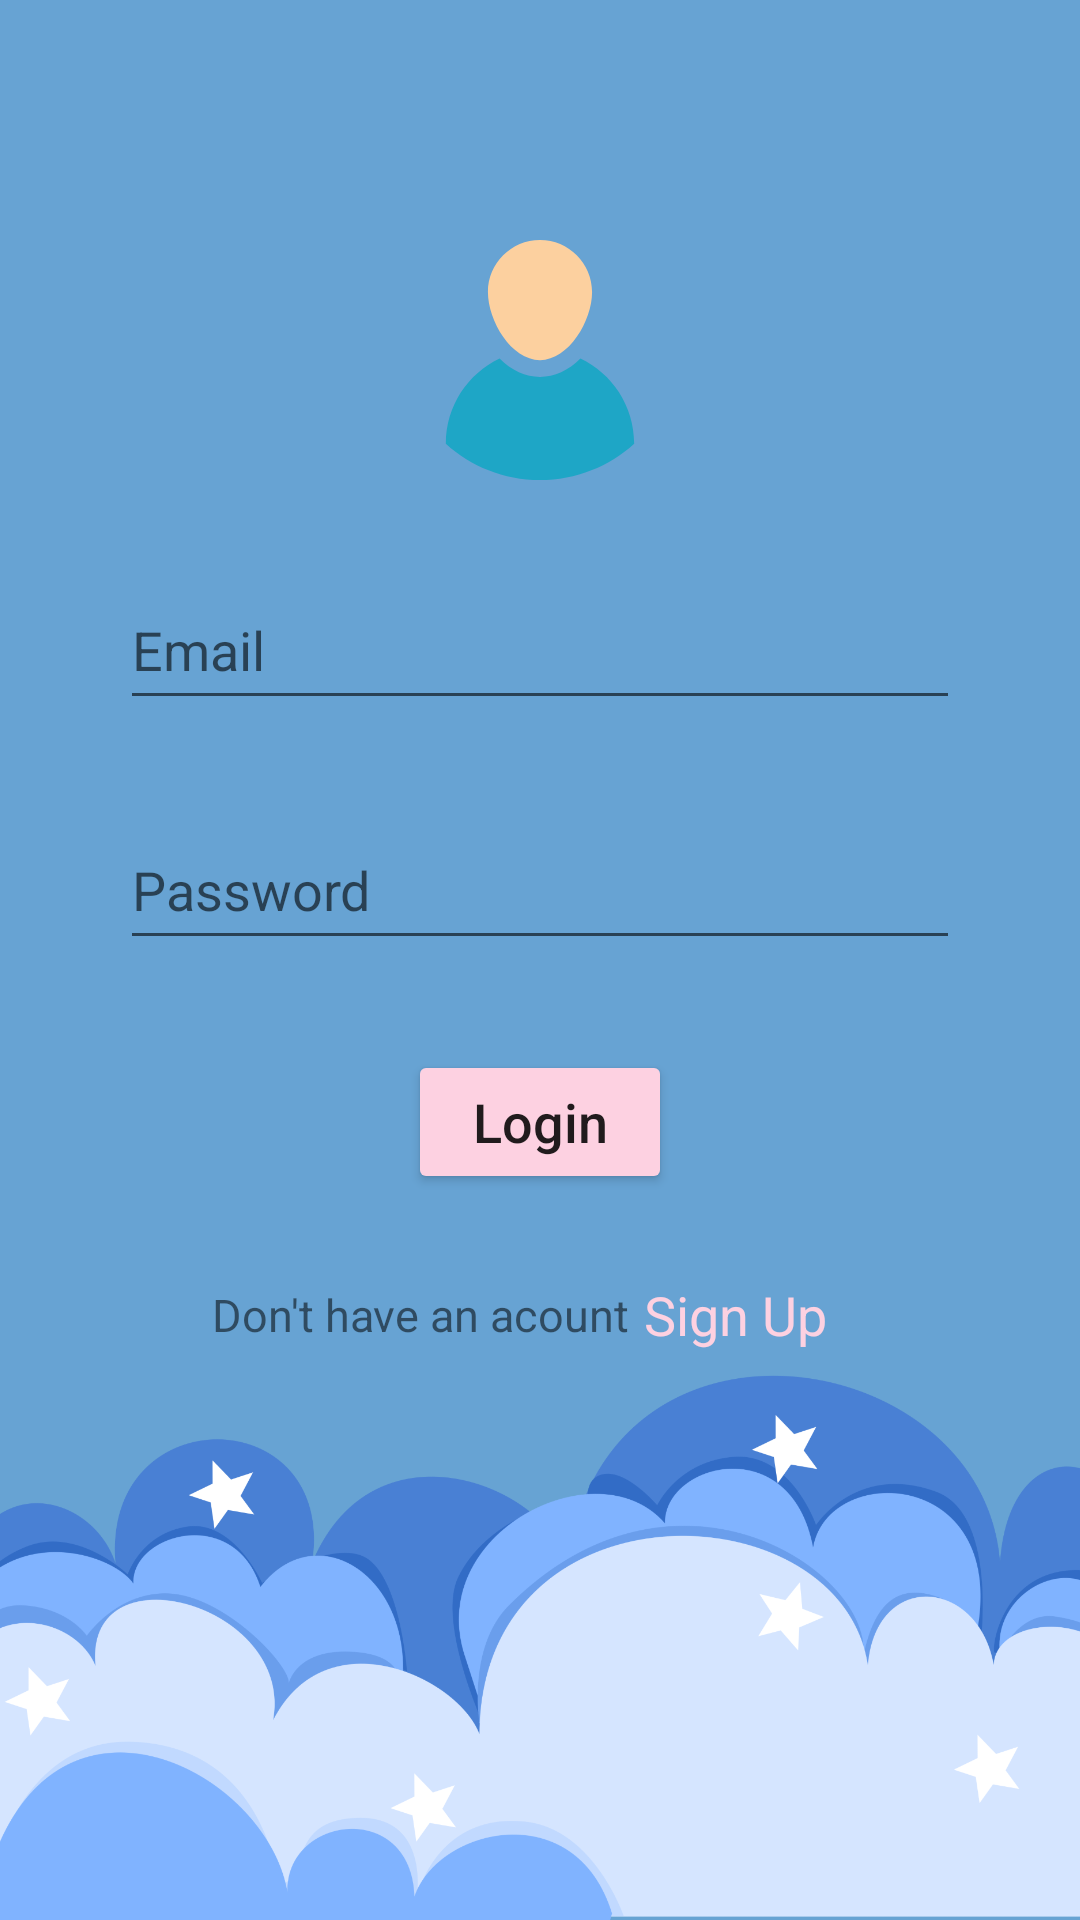

Screen size 1080 × 1920. Icon name, then its center in pixels as [x,y]:
user: [540,360]
